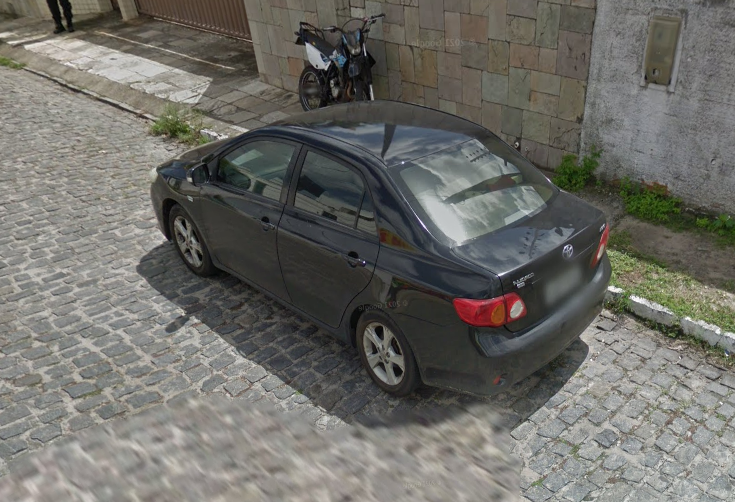car: (146, 96, 616, 400)
